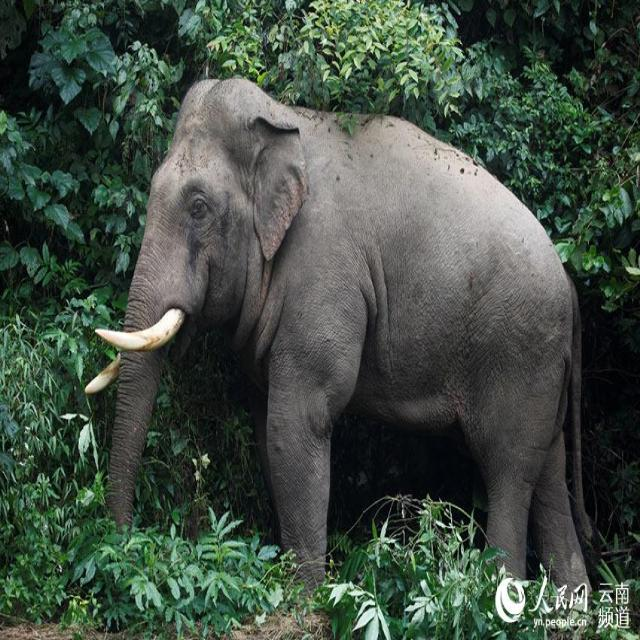Elephant: (89, 53, 596, 618)
